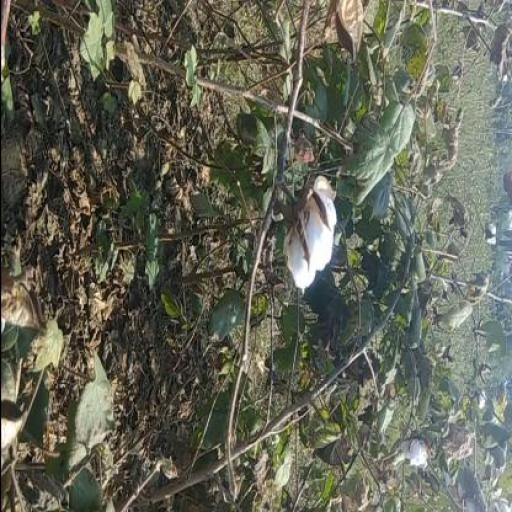cotton_ready: (260, 160, 349, 292)
